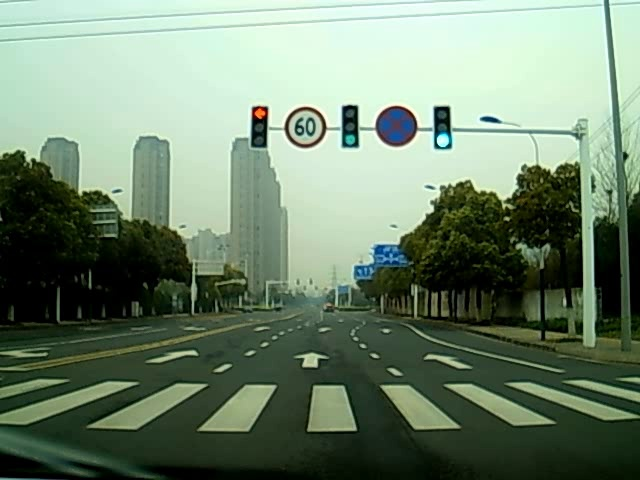Traffic_Light_go: (432, 106, 451, 149), (341, 107, 359, 148)
Traffic_Light_stop: (251, 107, 269, 150)
